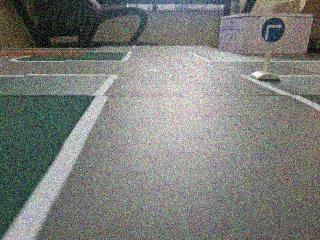right: (259, 14, 287, 45)
